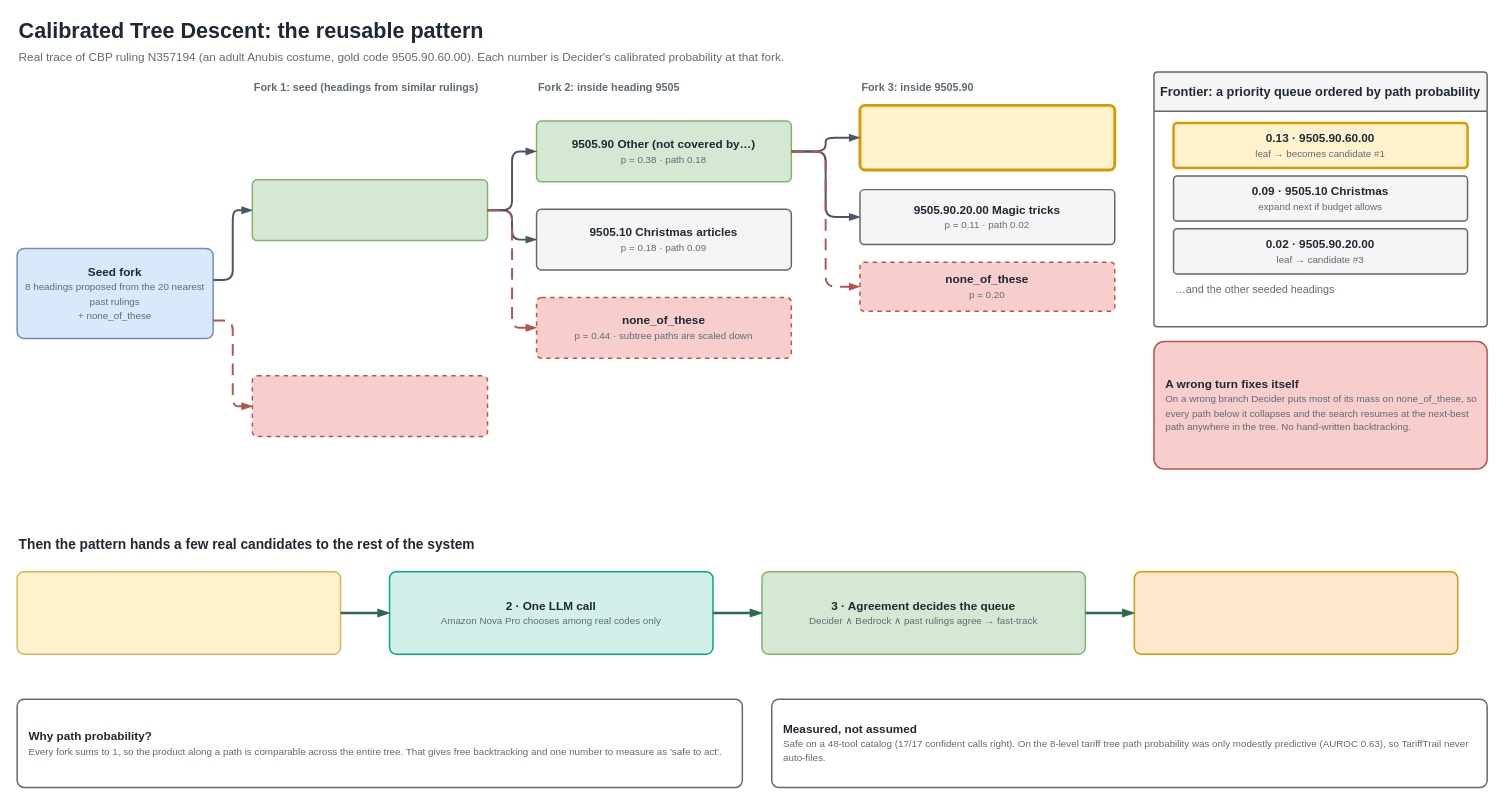
Image size: 1505x805. Some labels were removed from this diagram. Here are the shapes that lost their labels. From the top down, the centre of each, then its label:
At point 987,137: "9505.90.60.00 Other ✔ leaf p = 0.69 · path 0.13 = the gold code".
At point 369,210: "9505 Festive, carnival… p = 0.48 · path 0.48".
At point 369,406: "none_of_these p = 0.52 → full walk from the root".
At point 178,612: "1 · Top 3 complete paths plus the nearest past ruling's code".
At point 1295,612: "4 · A human confirms tariffs never auto-file (auto bar = 1.01)".
